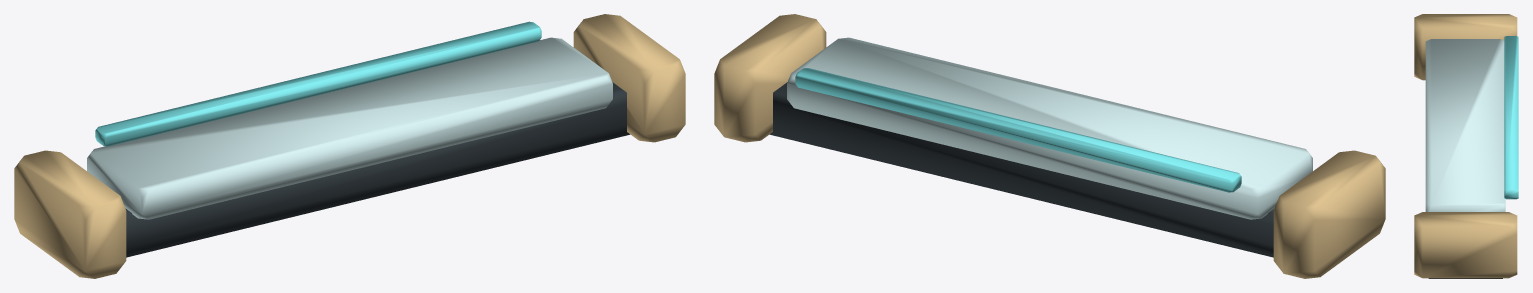
Rendered from room_l5_v4_ceiling_service_lamp.glb.
3 views of the same model, side by side, from view 1: azimuth 30°, elevation 25°; view 2: azimuth 150°, elevation 25°; view 3: azimuth 270°, elevation 25° (orthographic). The views are drawn at different scales.
Visible parts, largest first — view 1: frosted_light_bar, black_ceiling_spine, brass_end_cap_-0.82, lower_cyan_glow_strip, brass_end_cap_0.82; view 2: frosted_light_bar, black_ceiling_spine, brass_end_cap_-0.82, lower_cyan_glow_strip, brass_end_cap_0.82; view 3: frosted_light_bar, brass_end_cap_0.82, brass_end_cap_-0.82, lower_cyan_glow_strip.
Boxes of the visible parts, x1,y1,x2,y2 form: frosted_light_bar: (87, 37, 612, 219); black_ceiling_spine: (125, 82, 630, 257); brass_end_cap_-0.82: (14, 150, 126, 278); lower_cyan_glow_strip: (95, 21, 541, 146); brass_end_cap_0.82: (573, 14, 685, 142); frosted_light_bar: (787, 37, 1312, 219); black_ceiling_spine: (769, 82, 1274, 257); brass_end_cap_-0.82: (1273, 150, 1385, 278); lower_cyan_glow_strip: (795, 68, 1241, 192); brass_end_cap_0.82: (714, 14, 826, 142); frosted_light_bar: (1425, 39, 1505, 211); brass_end_cap_0.82: (1414, 212, 1517, 278); brass_end_cap_-0.82: (1414, 14, 1517, 80); lower_cyan_glow_strip: (1504, 36, 1518, 199).
Bounding box in the file's own units: 1.76 × 0.2525 × 0.365.
